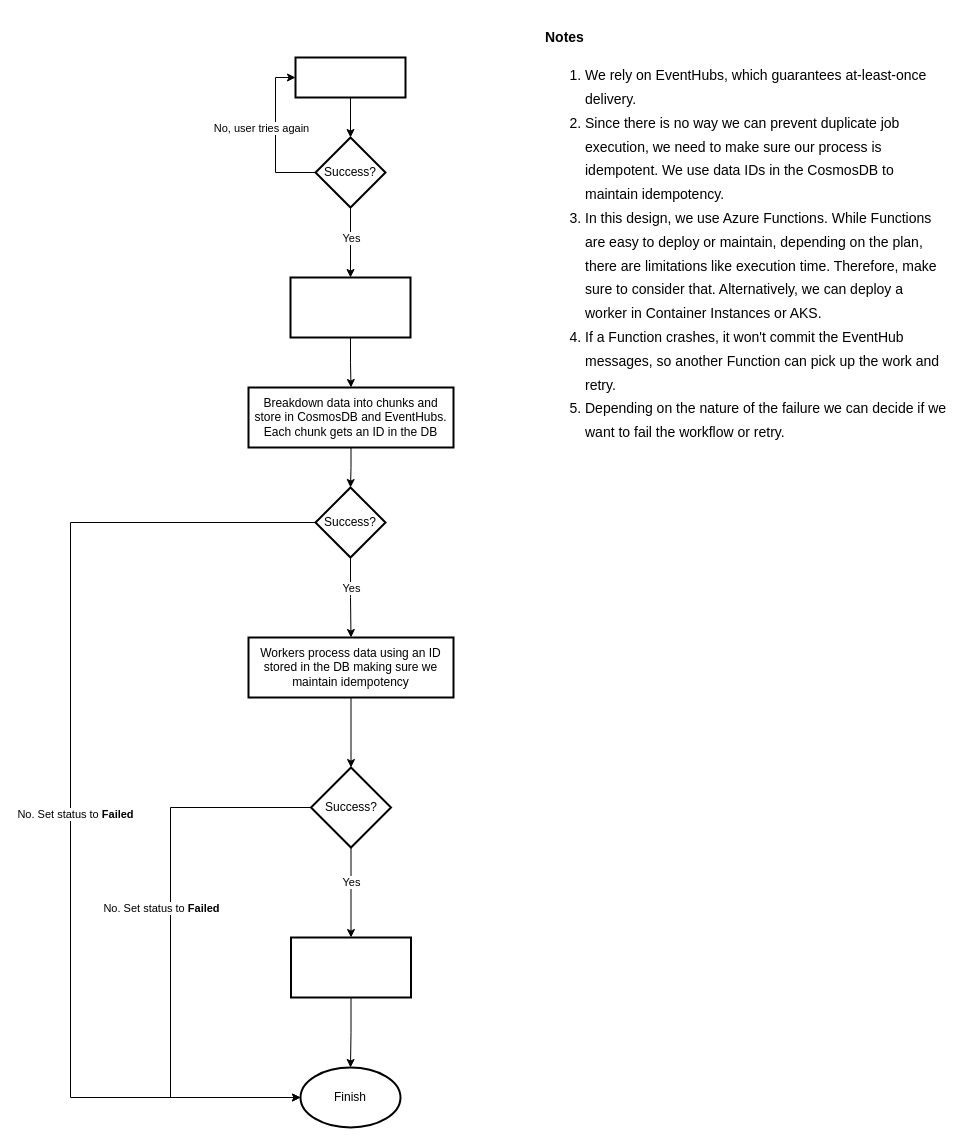
The diagram is 968 pixels wide and 1145 high, and some of its shapes have lost their labels. The centre of each missing label's shape, as x and y in pixels:
"Set status to Created" goes at (350,307).
"Update workflow in CosmosDB and set State to Completed" goes at (351,967).
"Upload file" goes at (350,77).
